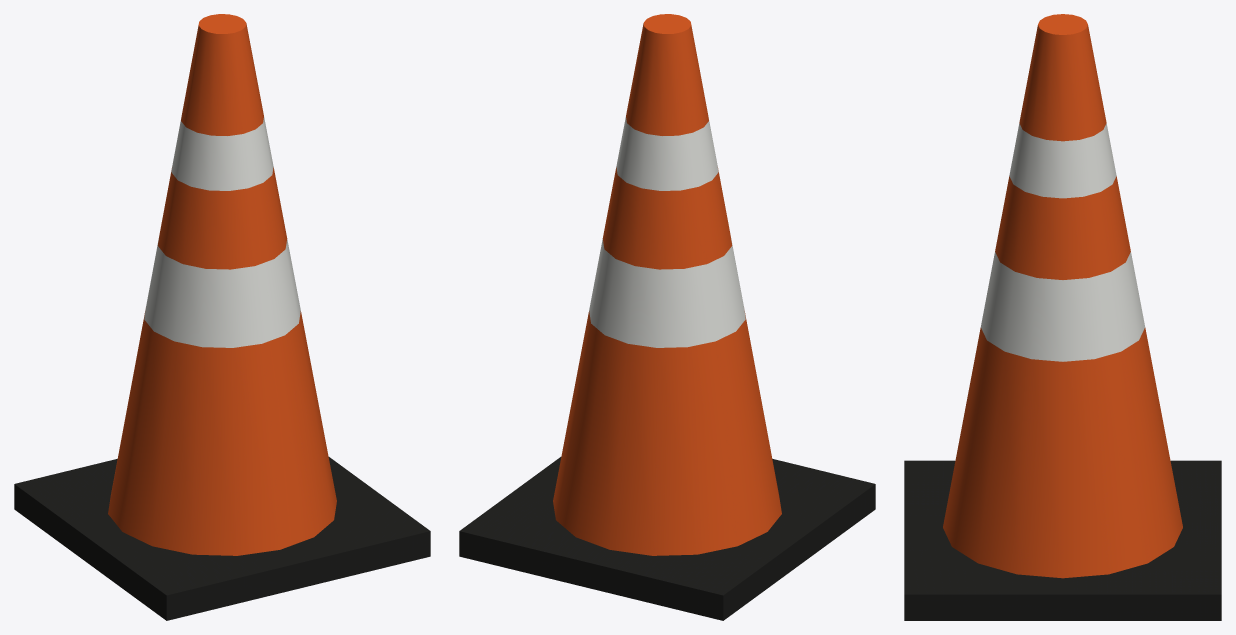
File: traffic_cone.glb
The picture shows the model from 3 angles, left to right: view 1: azimuth 30°, elevation 25°; view 2: azimuth 150°, elevation 25°; view 3: azimuth 270°, elevation 25°; orthographic projection. The views are drawn at different scales.
Parts seen in each view (by area): view 1: traffic_cone; view 2: traffic_cone; view 3: traffic_cone.
Part boxes in pixels (<box>): traffic_cone: <box>14,14,430,620</box>; traffic_cone: <box>459,14,875,620</box>; traffic_cone: <box>904,14,1221,620</box>.
Bounding box in the file's own units: 0.38 × 0.7 × 0.38.
Materials: 1 (1 with a texture image).
